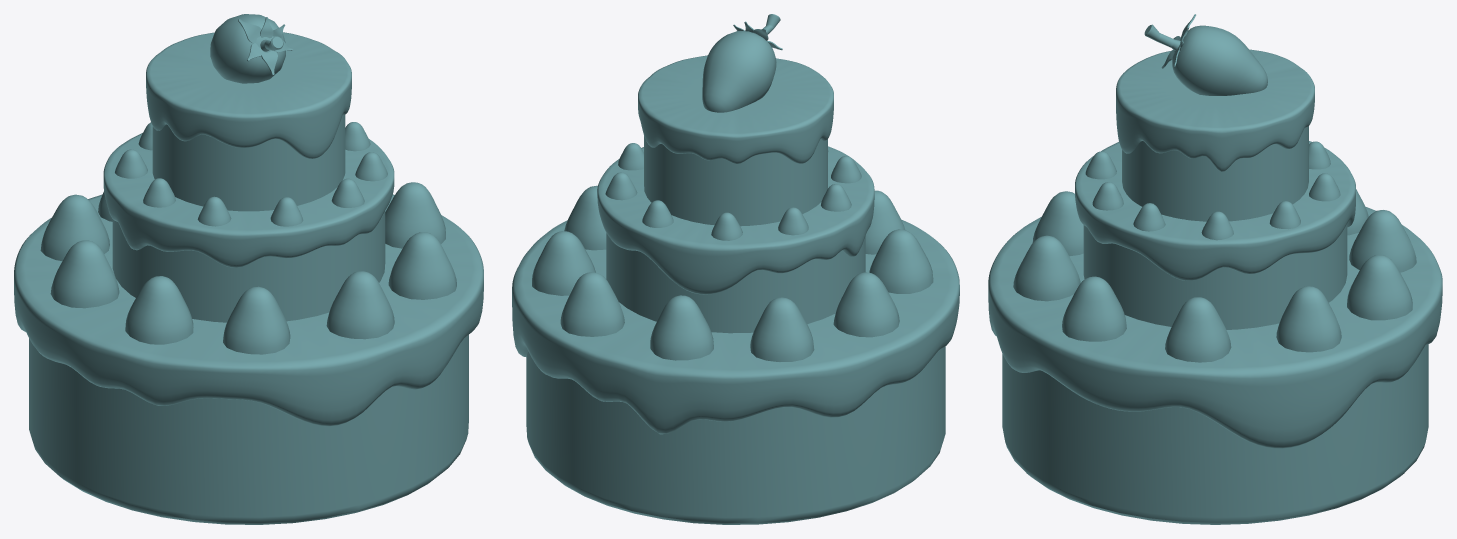
Rendered from SM_CAKE_3.fbx.
3 renders of one model, left to right at view 1: azimuth 30°, elevation 25°; view 2: azimuth 150°, elevation 25°; view 3: azimuth 270°, elevation 25°, orthographic. The views are drawn at different scales.
Visible parts, largest first — view 1: SM_CAKE_3; view 2: SM_CAKE_3; view 3: SM_CAKE_3.
Boxes of the visible parts, x1,y1,x2,y2 form: SM_CAKE_3: [14, 14, 483, 524]; SM_CAKE_3: [512, 14, 959, 524]; SM_CAKE_3: [988, 14, 1442, 524].
Bounding box in the file's own units: 40.11 × 40.49 × 40.11.
